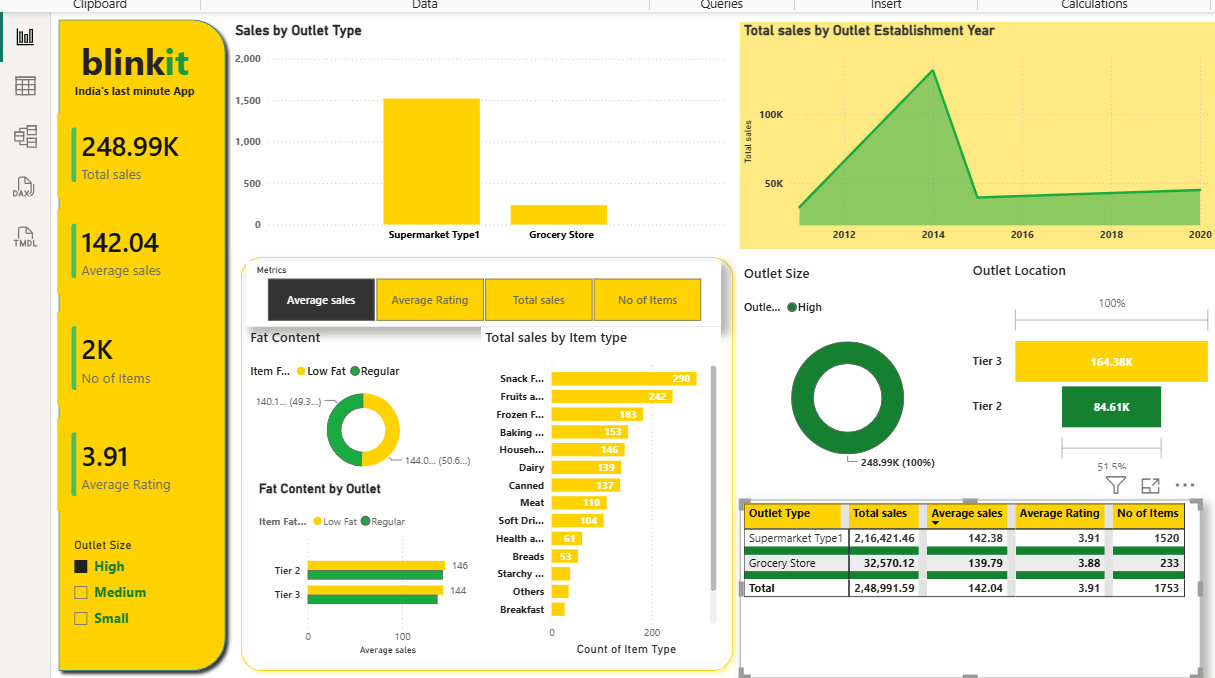

The page's visual inventory and layout, read from the dashboard file:
{"tool":"powerbi","page":{"name":"Page 2","canvas":[1400,800],"ordinal":0},"visuals":[{"type":"shape","box":[0,0,218.8,800.3],"z":0},{"type":"textbox","box":[0,24.5,201.1,137.2],"z":1000},{"type":"shape","box":[218.8,285.3,608.7,514.9],"z":3000},{"type":"donutChart","title":"Fat Content","fields":{"Category":["BlinkIT Grocery Data (2).Item Fat Content"],"Y":["BlinkIT Grocery Data (2).Average sales"]},"box":[234.1,378.2,282.2,184.6],"z":4000},{"type":"slicer","fields":{"Values":["Metrics.Metrics"]},"box":[233.7,298.9,570.7,78.8],"z":5000},{"type":"clusteredBarChart","title":"Fat Content by Outlet","fields":{"Category":["BlinkIT Grocery Data (2).Outlet Location Type"],"Series":["BlinkIT Grocery Data (2).Item Fat Content"],"Y":["BlinkIT Grocery Data (2).Average sales"]},"box":[244.6,562.5,271.7,214.7],"z":6000},{"type":"barChart","title":"Total sales by Item type","fields":{"Category":["BlinkIT Grocery Data (2).Item Type"],"Y":["CountNonNull(BlinkIT Grocery Data (2).Item Type)"]},"box":[516.3,378.2,288.2,399.2],"z":7000},{"type":"lineChart","fields":{"Category":["BlinkIT Grocery Data (2).Outlet Establishment Year"],"Y":["BlinkIT Grocery Data (2).Total sales"]},"box":[827,12,571.8,273.2],"z":8000},{"type":"donutChart","title":" Outlet Size","fields":{"Category":["BlinkIT Grocery Data (2).Outlet Size"],"Y":["BlinkIT Grocery Data (2).Total sales"]},"box":[827.5,301.6,259.5,260.9],"z":9000},{"type":"funnel","title":" Outlet Location ","fields":{"Category":["BlinkIT Grocery Data (2).Outlet Location Type"],"Y":["BlinkIT Grocery Data (2).Total sales"]},"box":[1101.9,298.9,297.6,263.6],"z":10000},{"type":"pivotTable","fields":{"Rows":["BlinkIT Grocery Data (2).Outlet Type"],"Values":["BlinkIT Grocery Data (2).Total sales","BlinkIT Grocery Data (2).Average sales","BlinkIT Grocery Data (2).Average Rating","BlinkIT Grocery Data (2).No of Items"]},"box":[827,585.3,553.8,214.6],"z":11000},{"type":"slicer","fields":{"Values":["BlinkIT Grocery Data (2).Outlet Size"]},"box":[15,625.9,186.1,133.6],"z":12000},{"type":"cardVisual","fields":{"Data":["BlinkIT Grocery Data (2).Total sales"]},"box":[7.5,121.6,186.1,100.6],"z":13000},{"type":"cardVisual","fields":{"Data":["BlinkIT Grocery Data (2).Average sales"]},"box":[7.5,237.1,186.1,100.6],"z":14000},{"type":"cardVisual","fields":{"Data":["BlinkIT Grocery Data (2).No of Items"]},"box":[7.5,360.2,186.1,111.1],"z":15000},{"type":"cardVisual","fields":{"Data":["BlinkIT Grocery Data (2).Average Rating"]},"box":[7.5,487.8,186.1,111.1],"z":16000},{"type":"columnChart","title":" Sales by Outlet Type","fields":{"Category":["BlinkIT Grocery Data (2).Outlet Type"],"Y":["CountNonNull(BlinkIT Grocery Data (2).Sales)"]},"box":[216.1,12,600.3,273.2],"z":17000}]}

Visuals, with their boxes on the page's 1400x800 design canvas (x1, y1, x2, y2). These are canvas units, not pixel positions in the 1215x678 screenshot, which may show the page scaled, cropped or inside an application window:
shape: x1=0 y1=0 x2=219 y2=800
textbox: x1=0 y1=24 x2=201 y2=162
shape: x1=219 y1=285 x2=828 y2=800
"Fat Content" donutChart: x1=234 y1=378 x2=516 y2=563
slicer - Metrics.Metrics: x1=234 y1=299 x2=804 y2=378
"Fat Content by Outlet" clusteredBarChart: x1=245 y1=562 x2=516 y2=777
"Total sales by Item type" barChart: x1=516 y1=378 x2=804 y2=777
lineChart - BlinkIT Grocery Data (2).Outlet Establishment Year x BlinkIT Grocery Data (2).Total sales: x1=827 y1=12 x2=1399 y2=285
" Outlet Size" donutChart: x1=828 y1=302 x2=1087 y2=562
" Outlet Location " funnel: x1=1102 y1=299 x2=1400 y2=562
pivotTable - BlinkIT Grocery Data (2).Outlet Type x BlinkIT Grocery Data (2).Total sales: x1=827 y1=585 x2=1381 y2=800
slicer - BlinkIT Grocery Data (2).Outlet Size: x1=15 y1=626 x2=201 y2=760
cardVisual - BlinkIT Grocery Data (2).Total sales: x1=8 y1=122 x2=194 y2=222
cardVisual - BlinkIT Grocery Data (2).Average sales: x1=8 y1=237 x2=194 y2=338
cardVisual - BlinkIT Grocery Data (2).No of Items: x1=8 y1=360 x2=194 y2=471
cardVisual - BlinkIT Grocery Data (2).Average Rating: x1=8 y1=488 x2=194 y2=599
" Sales by Outlet Type" columnChart: x1=216 y1=12 x2=816 y2=285
